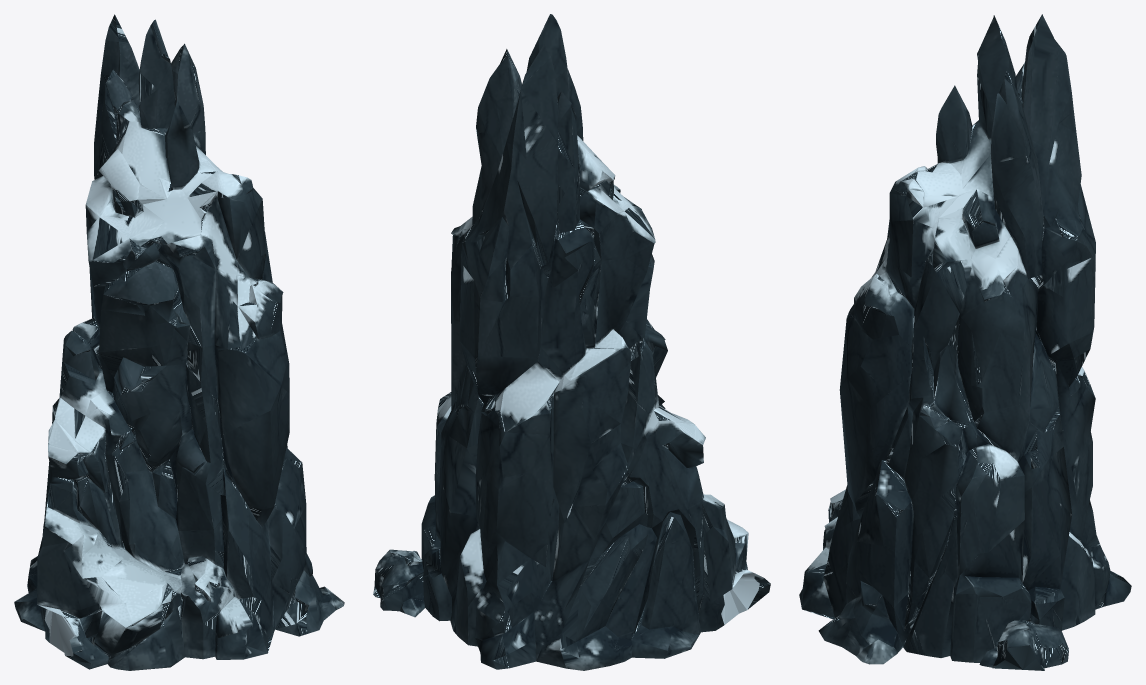
Rendered from cover_full_snow_v1.glb.
3 renders of one model, left to right at view 1: azimuth 30°, elevation 25°; view 2: azimuth 150°, elevation 25°; view 3: azimuth 270°, elevation 25°, orthographic. The views are drawn at different scales.
Size of the model in its own units: 0.9957 by 1.85 by 0.9529.
1 material, 1 textured.
